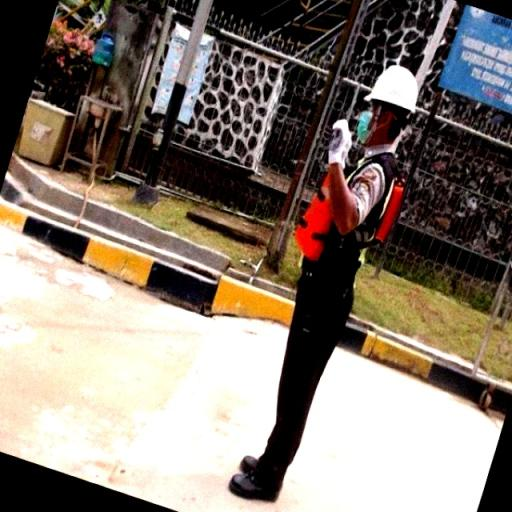Person: (211, 53, 453, 503), (231, 53, 442, 503)
boots: (222, 462, 282, 502), (238, 450, 273, 479)
gloves: (326, 116, 354, 170)
helmet: (363, 62, 421, 117)
vest: (296, 163, 408, 270)
